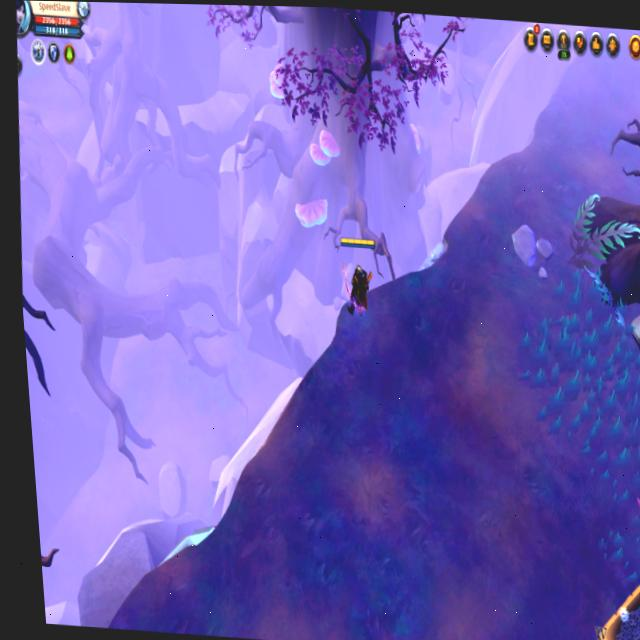red: (329, 227, 385, 324)
